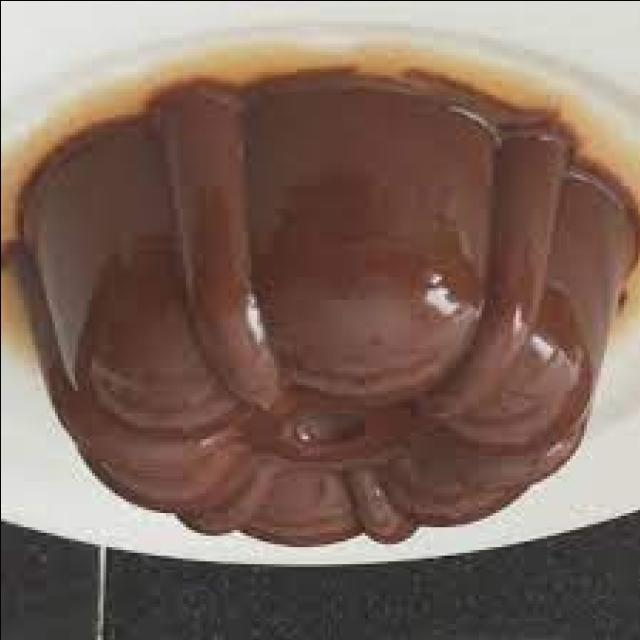puding: (16, 62, 628, 549)
